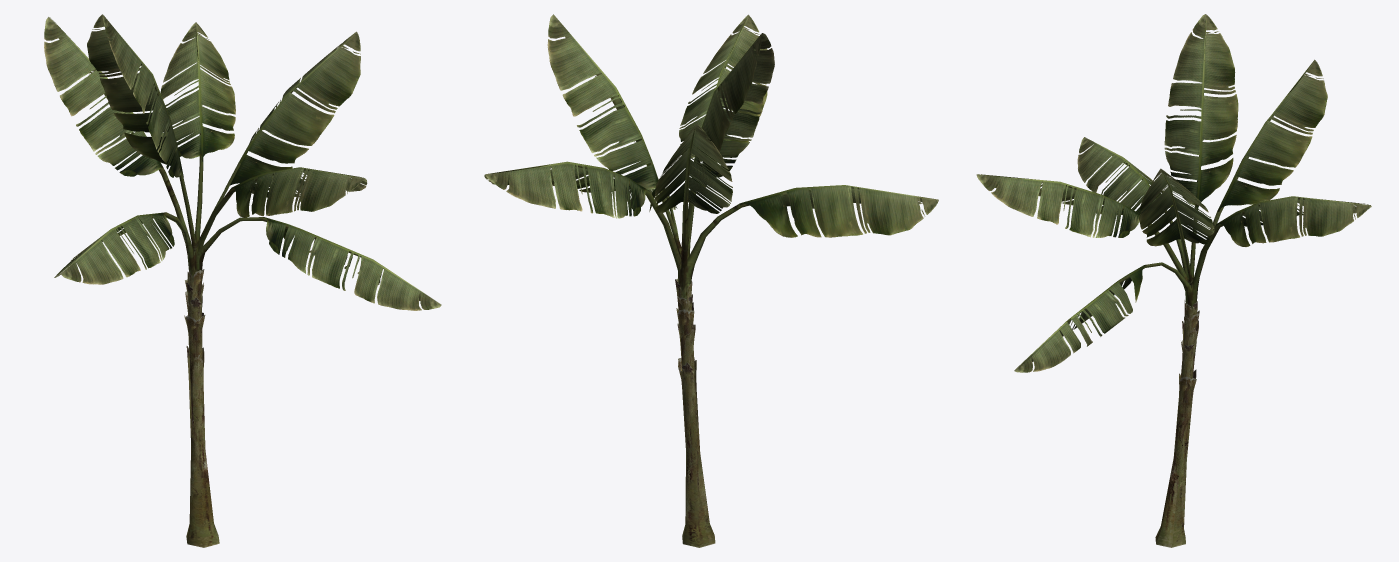
File: bush.fbx
3 views of the same model, side by side, from view 1: azimuth 30°, elevation 25°; view 2: azimuth 150°, elevation 25°; view 3: azimuth 270°, elevation 25° (orthographic). The views are drawn at different scales.
Parts seen in each view (by area): view 1: palm_tree; view 2: palm_tree; view 3: palm_tree.
Boxes of the visible parts, x1,y1,x2,y2 form: palm_tree: [44, 14, 441, 547]; palm_tree: [484, 14, 938, 547]; palm_tree: [976, 14, 1371, 547].
Size of the model in its own units: 960 by 1357 by 1047.
Materials: 2 (2 with a texture image).
